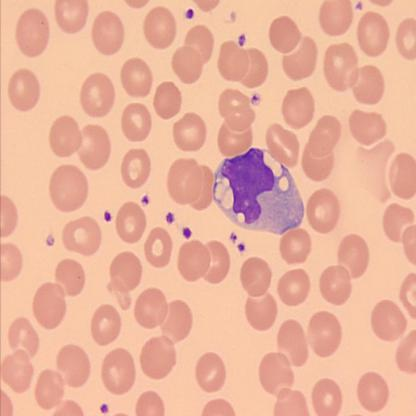Atypical lymphocyte: (214, 148, 306, 236)
